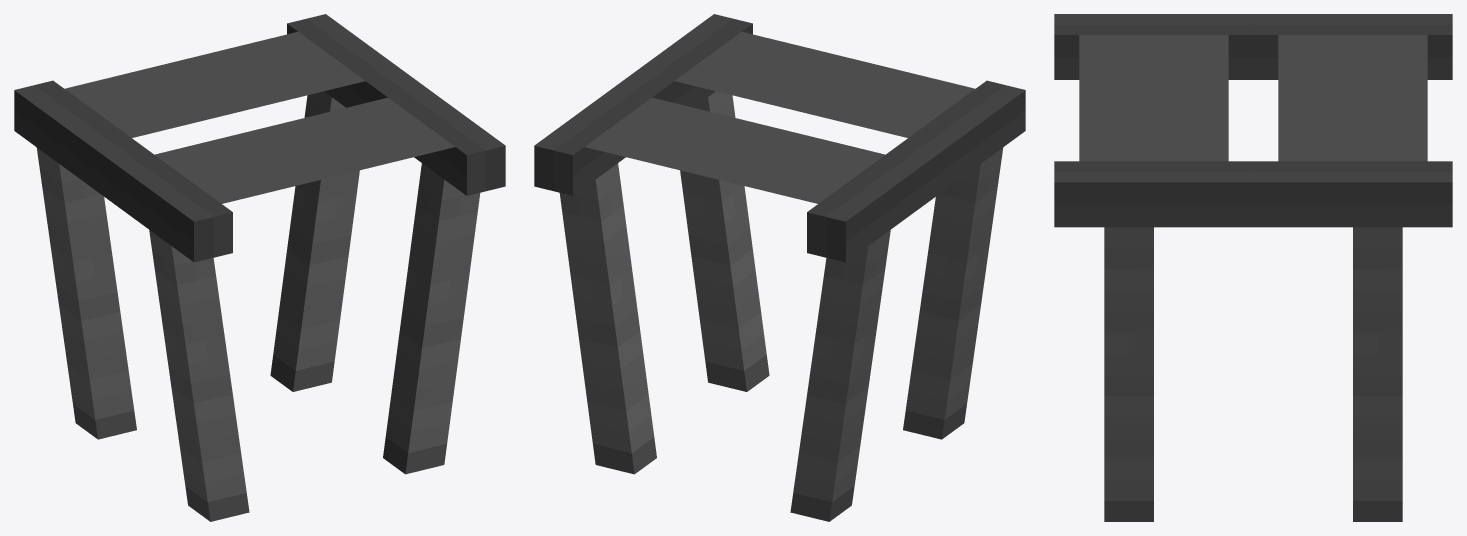
Rendered from steel_catwalk_support.obj.
The picture shows the model from 3 angles, left to right: view 1: azimuth 30°, elevation 25°; view 2: azimuth 150°, elevation 25°; view 3: azimuth 270°, elevation 25°; orthographic projection. The views are drawn at different scales.
Parts seen in each view (by area): view 1: middle, pole2, pole1, pole4, side1, pole3, side2; view 2: middle, pole3, pole4, pole1, side1, pole2, side2; view 3: middle, side2, pole2, pole3, side1.
Part boxes in pixels (<box>): middle: <box>64,32,454,203</box>; pole2: <box>383,163,480,474</box>; pole1: <box>149,230,249,521</box>; pole4: <box>36,147,136,439</box>; side1: <box>14,80,232,262</box>; pole3: <box>270,91,359,391</box>; side2: <box>287,14,505,195</box>; middle: <box>585,32,975,203</box>; pole3: <box>559,163,656,474</box>; pole4: <box>790,230,890,521</box>; pole1: <box>903,147,1003,439</box>; side1: <box>807,80,1025,262</box>; pole2: <box>680,91,769,391</box>; side2: <box>534,14,752,195</box>; middle: <box>1079,35,1427,161</box>; side2: <box>1054,161,1452,227</box>; pole2: <box>1104,227,1153,521</box>; pole3: <box>1353,227,1402,521</box>; side1: <box>1054,14,1452,79</box>.
Bounding box in the file's own units: 1 × 1 × 1.
